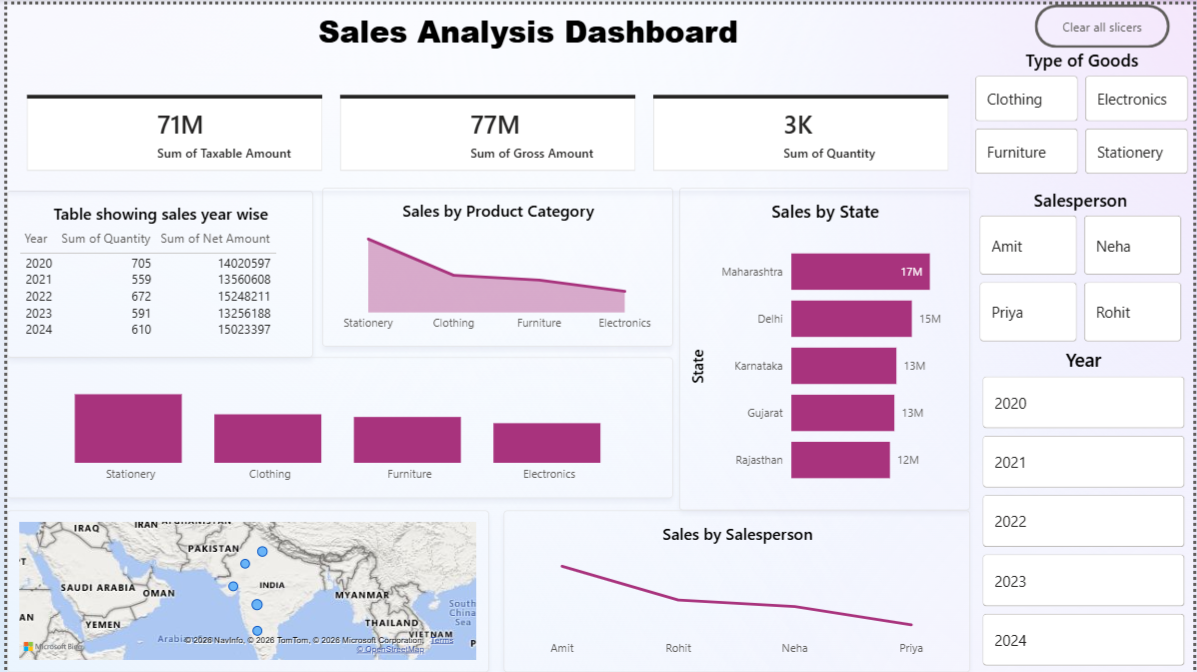

The dashboard page shown, as its layout file describes it:
{"tool":"powerbi","page":{"name":"Page 1","canvas":[1280,720],"ordinal":0},"visuals":[{"type":"map","fields":{"Category":["Clean_Sales_Data.State"],"Size":["Sum(Clean_Sales_Data.Net Amount)"]},"box":[0,545.6,520.1,175],"z":0},{"type":"tableEx","title":"Table showing sales year wise","fields":{"Values":["Clean_Sales_Data.Year","Sum(Clean_Sales_Data.Quantity)","Sum(Clean_Sales_Data.Net Amount)"]},"box":[0,200.8,330.3,179.7],"z":1000},{"type":"clusteredBarChart","title":"Sales by State","fields":{"Category":["Clean_Sales_Data.State"],"Y":["Sum(Clean_Sales_Data.Net Amount)"]},"box":[725.4,197.5,314.1,348.1],"z":2000},{"type":"cardVisual","fields":{"Data":["Sum(Clean_Sales_Data.Taxable Amount)","Sum(Clean_Sales_Data.Gross Amount)","Sum(Clean_Sales_Data.Quantity)"]},"box":[0,76.1,1039.5,124.7],"z":3000},{"type":"lineChart","title":"Sales by Salesperson","fields":{"Category":["Clean_Sales_Data.Salesperson"],"Y":["Sum(Clean_Sales_Data.Net Amount)"]},"box":[536,545.7,503.6,174.9],"z":4000},{"type":"areaChart","title":"Sales by Product Category","fields":{"Category":["Clean_Sales_Data.Product Category"],"Y":["Sum(Clean_Sales_Data.Net Amount)"]},"box":[340,197.5,378.9,171.6],"z":5000},{"type":"textbox","box":[0,0,1279.2,76.1],"z":6000},{"type":"clusteredColumnChart","fields":{"Category":["Clean_Sales_Data.Product Category"],"Y":["Sum(Clean_Sales_Data.Net Amount)"]},"box":[0,380.5,718.9,152.2],"z":7000},{"type":"advancedSlicerVisual","fields":{"Values":["Clean_Sales_Data.Type of Goods"]},"box":[1039.5,47,241.3,142.5],"z":8000},{"type":"actionButton","box":[1109.2,0,145.7,47],"z":9000},{"type":"advancedSlicerVisual","fields":{"Values":["Clean_Sales_Data.Salesperson"]},"box":[1044.4,197.5,228.3,171.6],"z":10000},{"type":"advancedSlicerVisual","fields":{"Values":["Clean_Sales_Data.Year"]},"box":[1047.6,369.2,228.3,351.4],"z":11000}]}

Visuals, with their boxes in screenshot pixels (x1, y1, x2, y2), scaled from the page's 1280x720 canvas onto the 1197x672 screenshot:
map - Clean_Sales_Data.State x Sum(Clean_Sales_Data.Net Amount): x1=0, y1=509, x2=486, y2=671
"Table showing sales year wise" tableEx: x1=0, y1=187, x2=309, y2=355
"Sales by State" clusteredBarChart: x1=678, y1=184, x2=972, y2=509
cardVisual - Sum(Clean_Sales_Data.Taxable Amount) x Sum(Clean_Sales_Data.Gross Amount): x1=0, y1=71, x2=972, y2=187
"Sales by Salesperson" lineChart: x1=501, y1=509, x2=972, y2=671
"Sales by Product Category" areaChart: x1=318, y1=184, x2=672, y2=344
textbox: x1=0, y1=0, x2=1196, y2=71
clusteredColumnChart - Clean_Sales_Data.Product Category x Sum(Clean_Sales_Data.Net Amount): x1=0, y1=355, x2=672, y2=497
advancedSlicerVisual - Clean_Sales_Data.Type of Goods: x1=972, y1=44, x2=1196, y2=177
actionButton: x1=1037, y1=0, x2=1174, y2=44
advancedSlicerVisual - Clean_Sales_Data.Salesperson: x1=977, y1=184, x2=1190, y2=344
advancedSlicerVisual - Clean_Sales_Data.Year: x1=980, y1=345, x2=1193, y2=671
